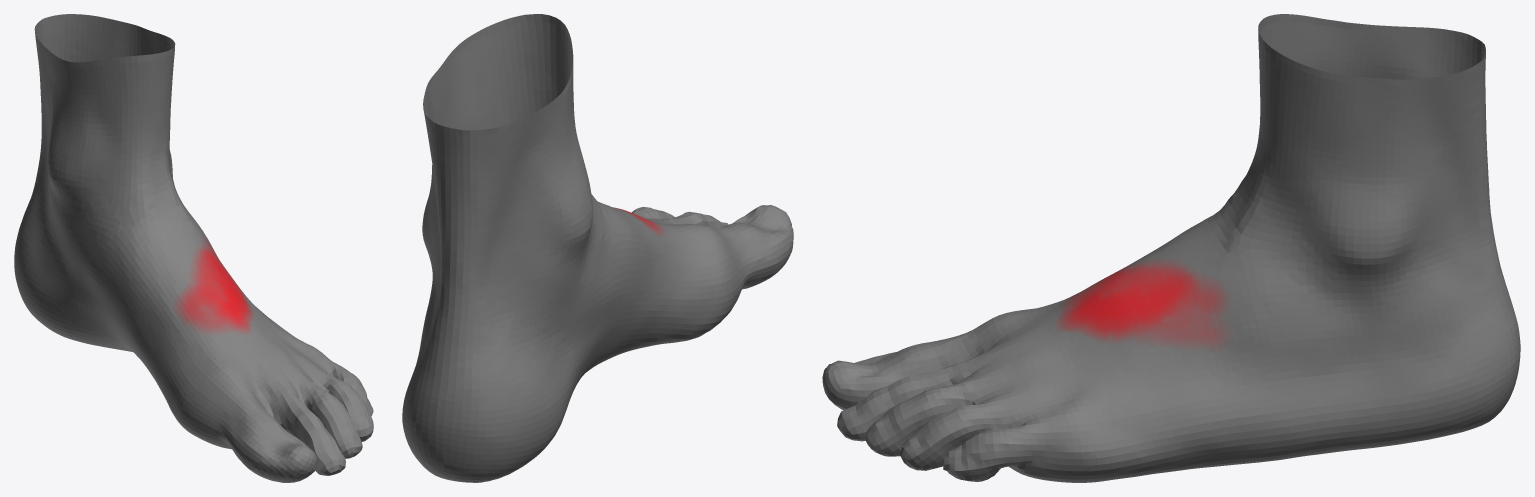
3 renders of one model, left to right at view 1: azimuth 30°, elevation 25°; view 2: azimuth 150°, elevation 25°; view 3: azimuth 270°, elevation 25°, orthographic. The views are drawn at different scales.
Visible parts, largest first — view 1: node_id27; view 2: node_id27; view 3: node_id27.
Part boxes in pixels (bbox=[...]): node_id27: bbox=[14, 14, 373, 482]; node_id27: bbox=[402, 14, 793, 482]; node_id27: bbox=[822, 14, 1520, 482].
Size of the model in its own units: 0.2912 by 0.512 by 0.7961.
Materials: 1 (1 with a texture image).
